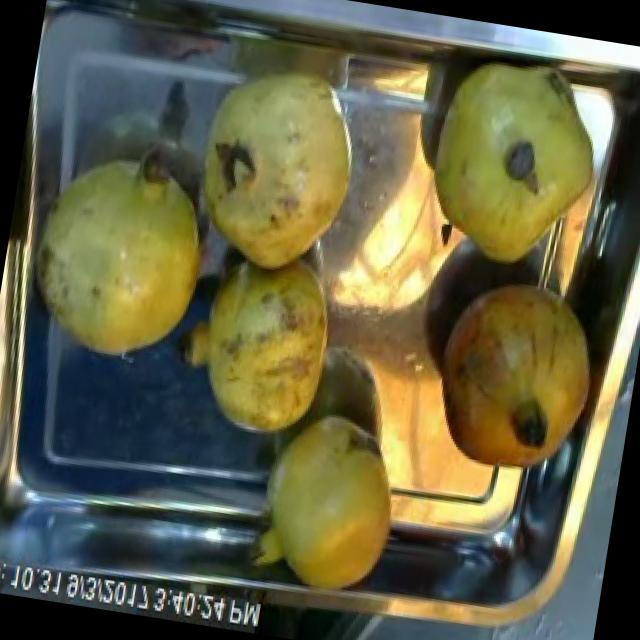fruit: (14, 130, 234, 386), (168, 48, 379, 296), (410, 43, 612, 288), (416, 258, 614, 492), (177, 237, 354, 454), (244, 392, 421, 608)
